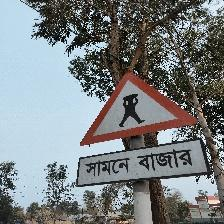Market-in-front: (76, 70, 210, 189)
